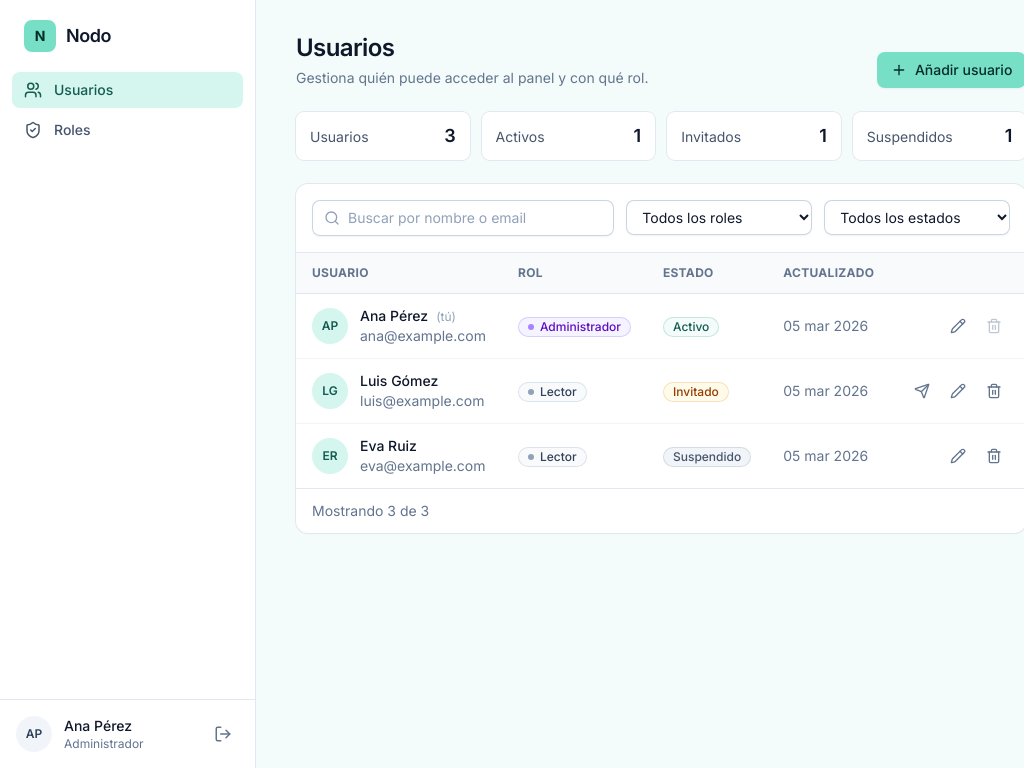
Scenario: Dashboard › anuncia si no se pudo reenviar la invitación
Click the button named "Reenviar invitación a Luis Gómez".
click(922, 391)  # box [906,375,938,407]
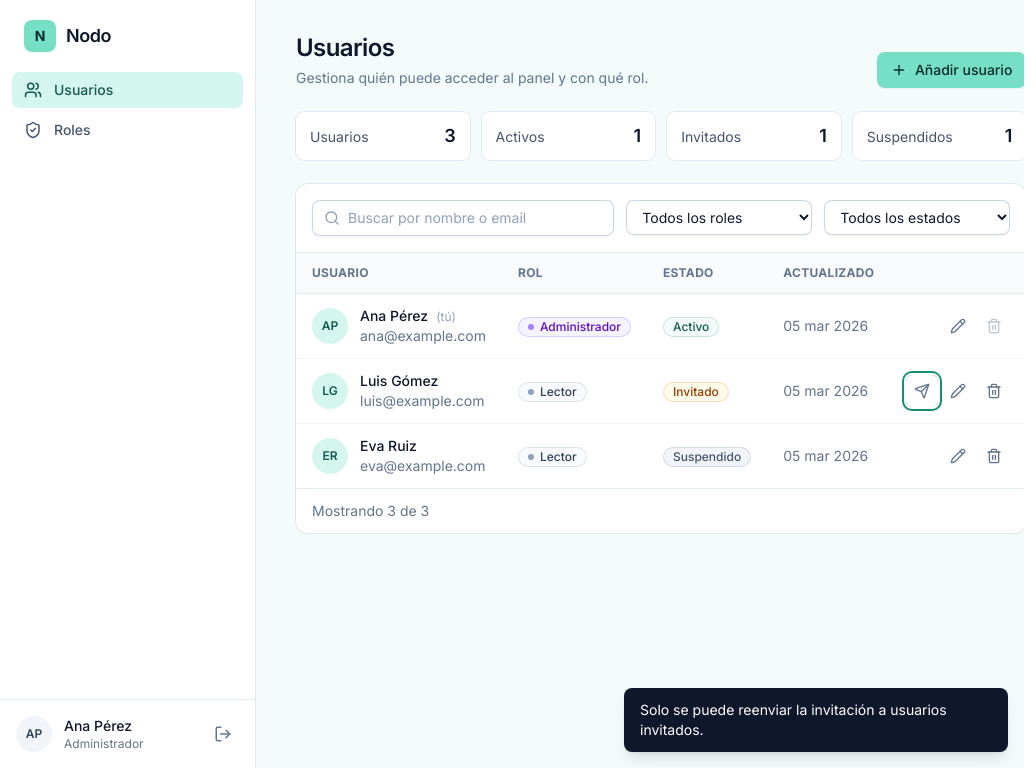
Now the message reads "Solo se puede reenviar la invitación a usuarios invitados.", box [640,701,947,738]
